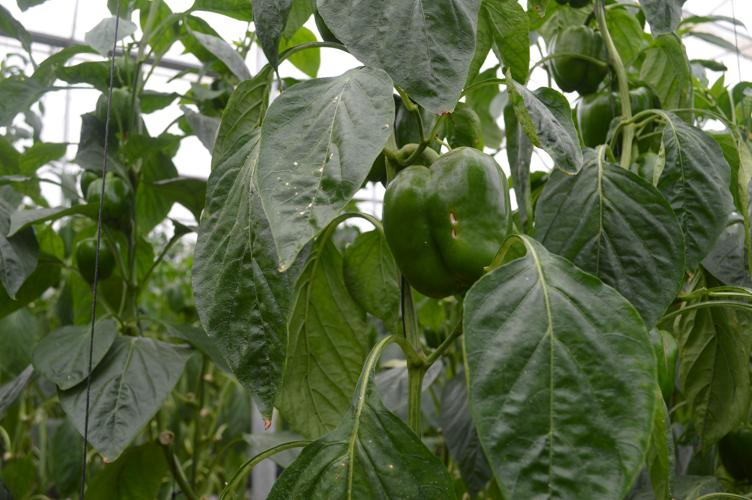BellPepper: (373, 155, 516, 291), (577, 85, 664, 168), (538, 17, 616, 95), (76, 170, 142, 226), (85, 84, 147, 143), (72, 232, 125, 287)
